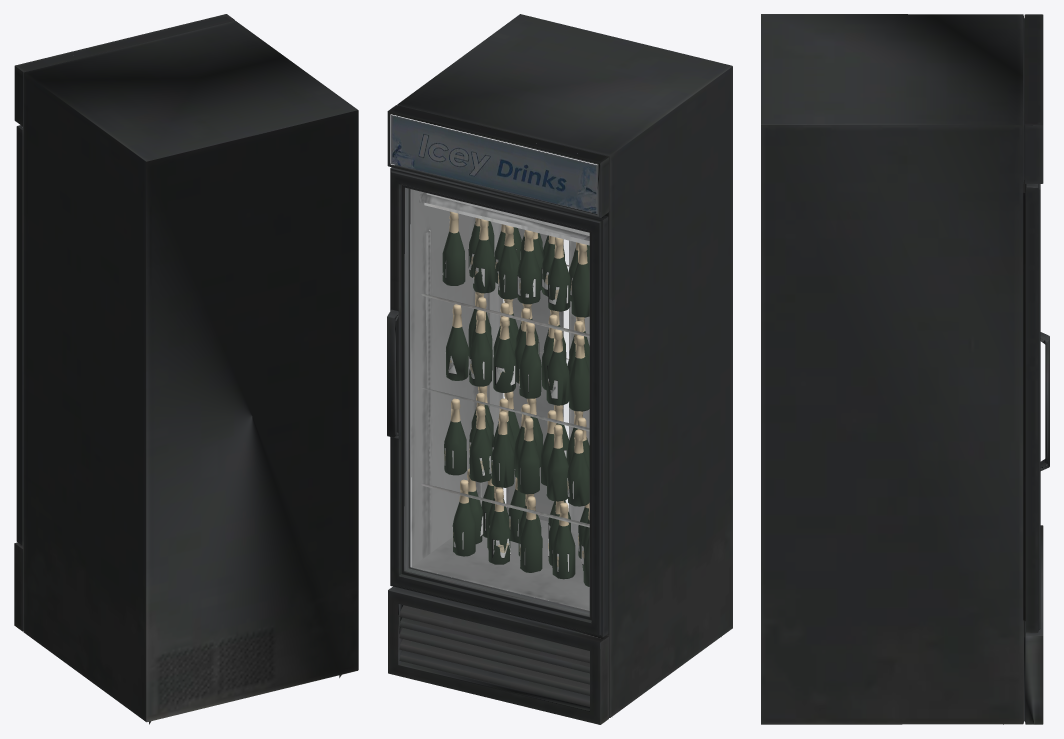
File: refrigerator.glb
3 renders of one model, left to right at view 1: azimuth 30°, elevation 25°; view 2: azimuth 150°, elevation 25°; view 3: azimuth 270°, elevation 25°, orthographic. The views are drawn at different scales.
Parts seen in each view (by area): view 1: FridgeCase, FridgeDoor; view 2: FridgeCase, FridgeGlass, FridgeDoorInner, ChampagneBottles, FridgeDoor; view 3: FridgeCase, FridgeDoor.
Boxes of the visible parts, left/top/right/bottom form: FridgeCase: left=14, top=14, right=358, bottom=724; FridgeDoor: left=16, top=125, right=23, bottom=545; FridgeCase: left=387, top=14, right=732, bottom=724; FridgeGlass: left=406, top=189, right=588, bottom=613; FridgeDoorInner: left=390, top=115, right=597, bottom=615; ChampagneBottles: left=442, top=211, right=589, bottom=586; FridgeDoor: left=387, top=165, right=608, bottom=637; FridgeCase: left=761, top=14, right=1043, bottom=724; FridgeDoor: left=1023, top=180, right=1049, bottom=632.
Size of the model in its own units: 0.8544 by 2.18 by 0.9396.
Materials: 6 (3 with a texture image).
